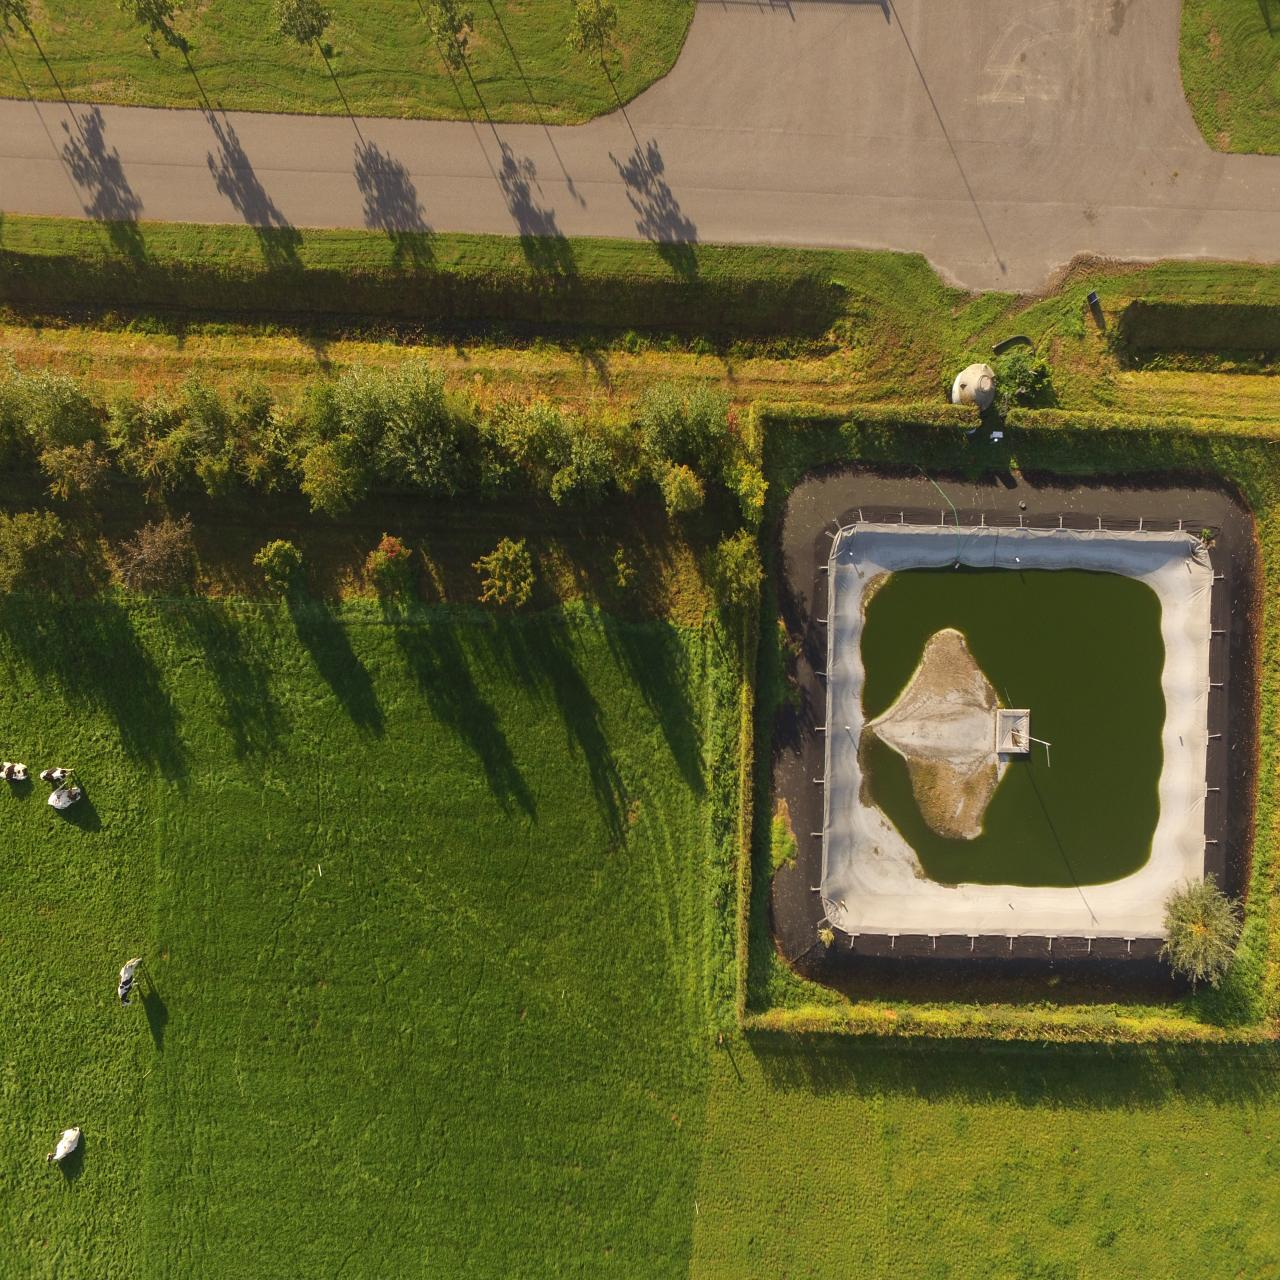cow: (107, 953, 151, 1008), (45, 1121, 84, 1167), (39, 760, 76, 784), (48, 785, 82, 812), (0, 762, 28, 781)
